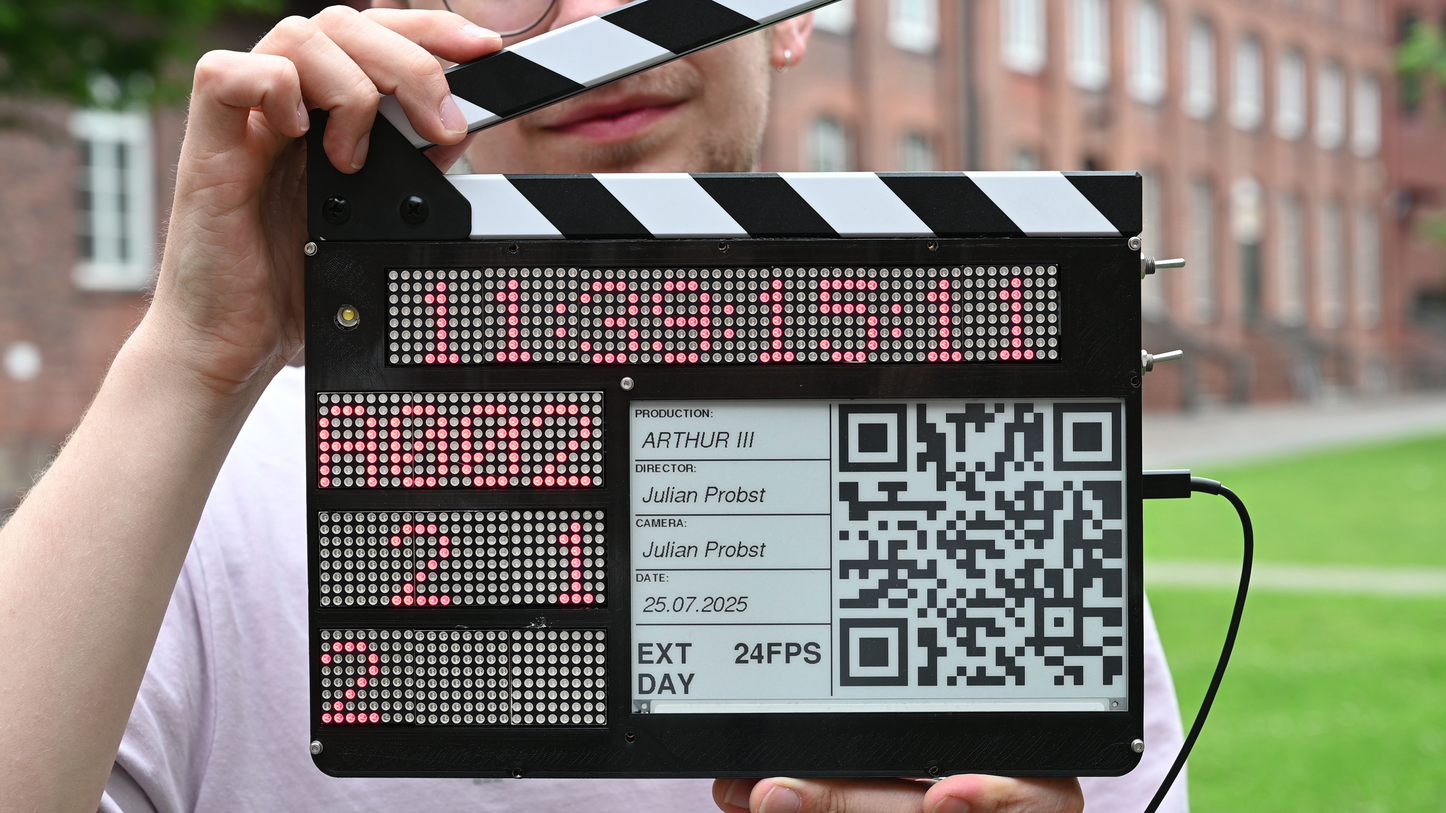ARC-SLATE: (306, 173, 1143, 784)
